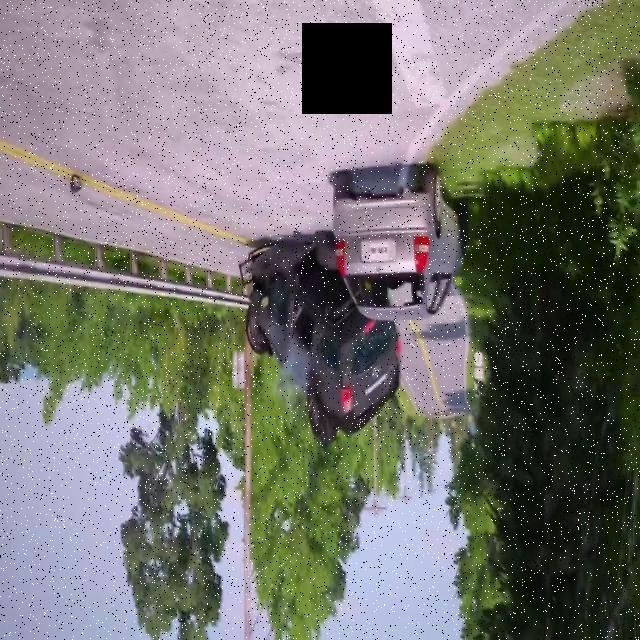person: (223, 238, 427, 452)
